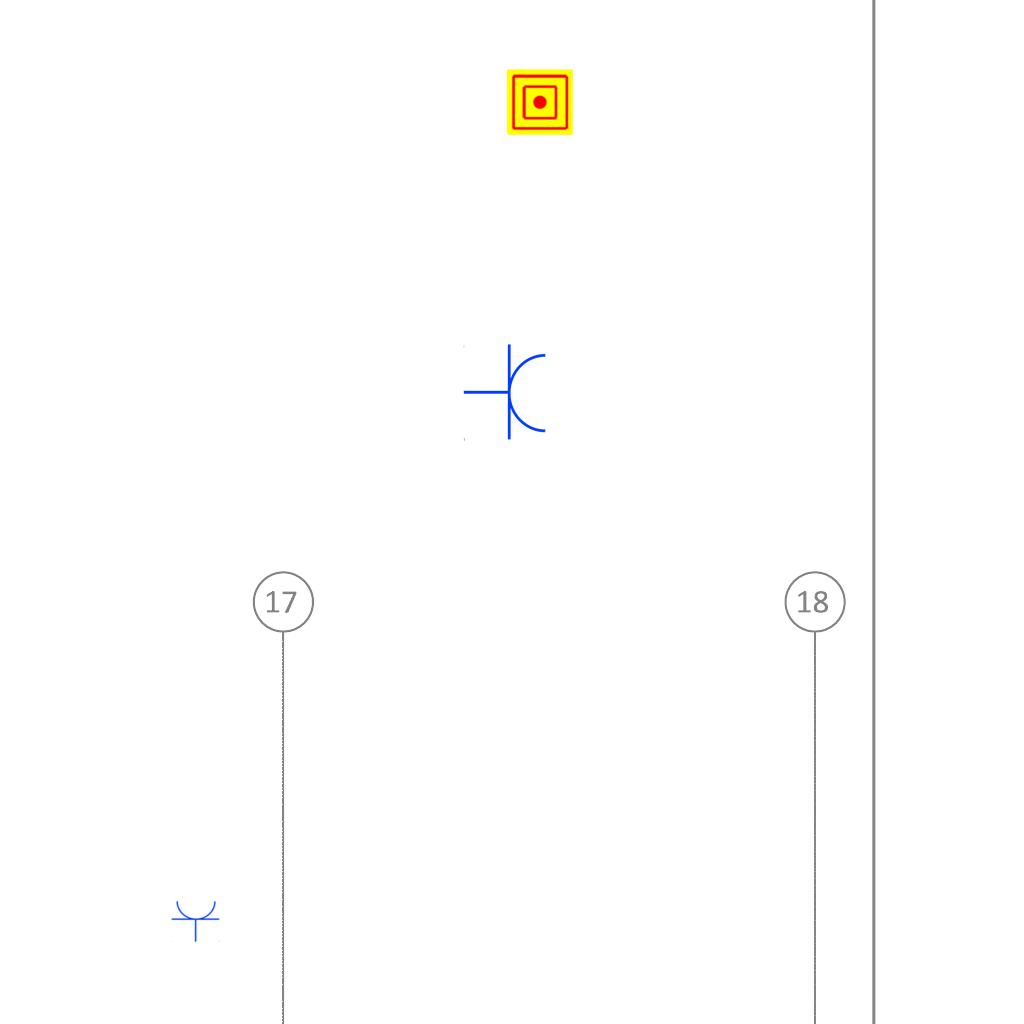NAM-Nichtautomatischer_Melder: (507, 69, 573, 135)
Schukosteckdose_einfach: (463, 343, 550, 443), (171, 899, 221, 942)
